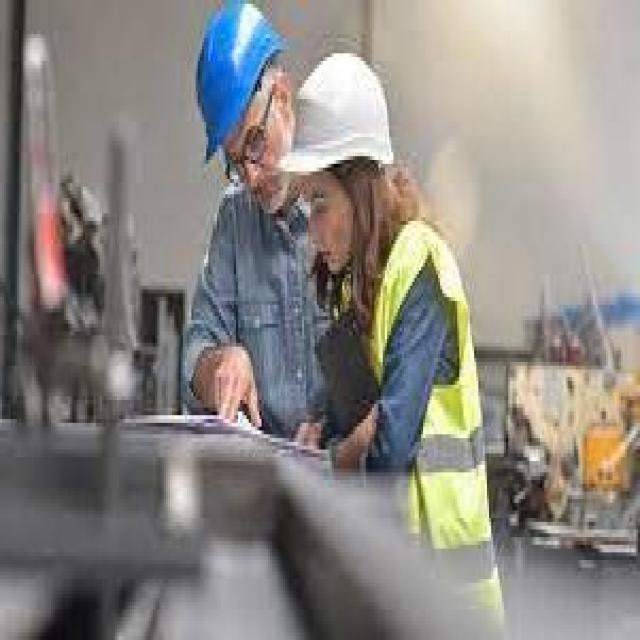Reflective-Jacket: (328, 210, 514, 628)
Safety-Helmet: (281, 46, 402, 194), (183, 4, 289, 168)
